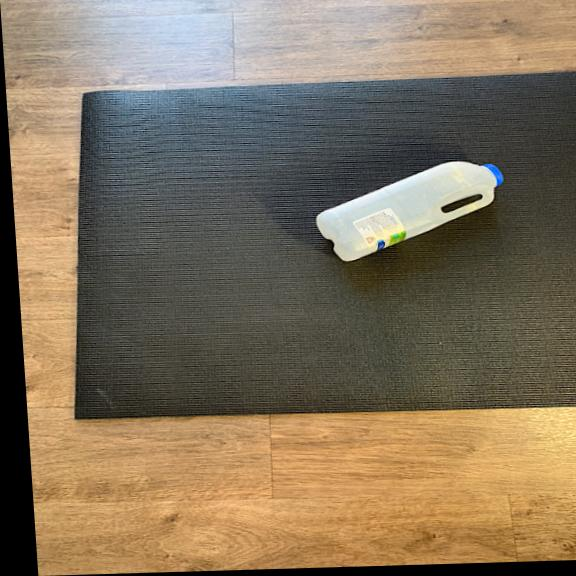Plastik: (306, 157, 515, 265)
